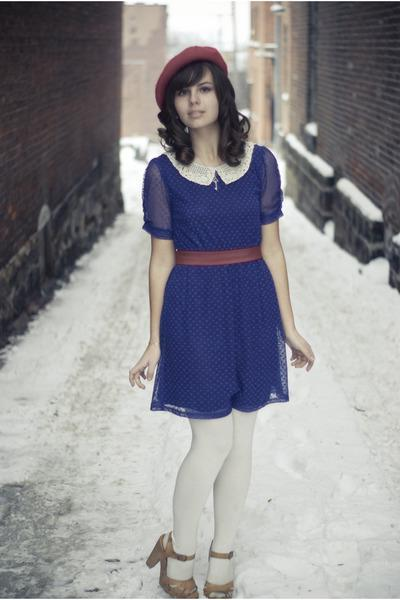dress: (138, 143, 293, 416)
